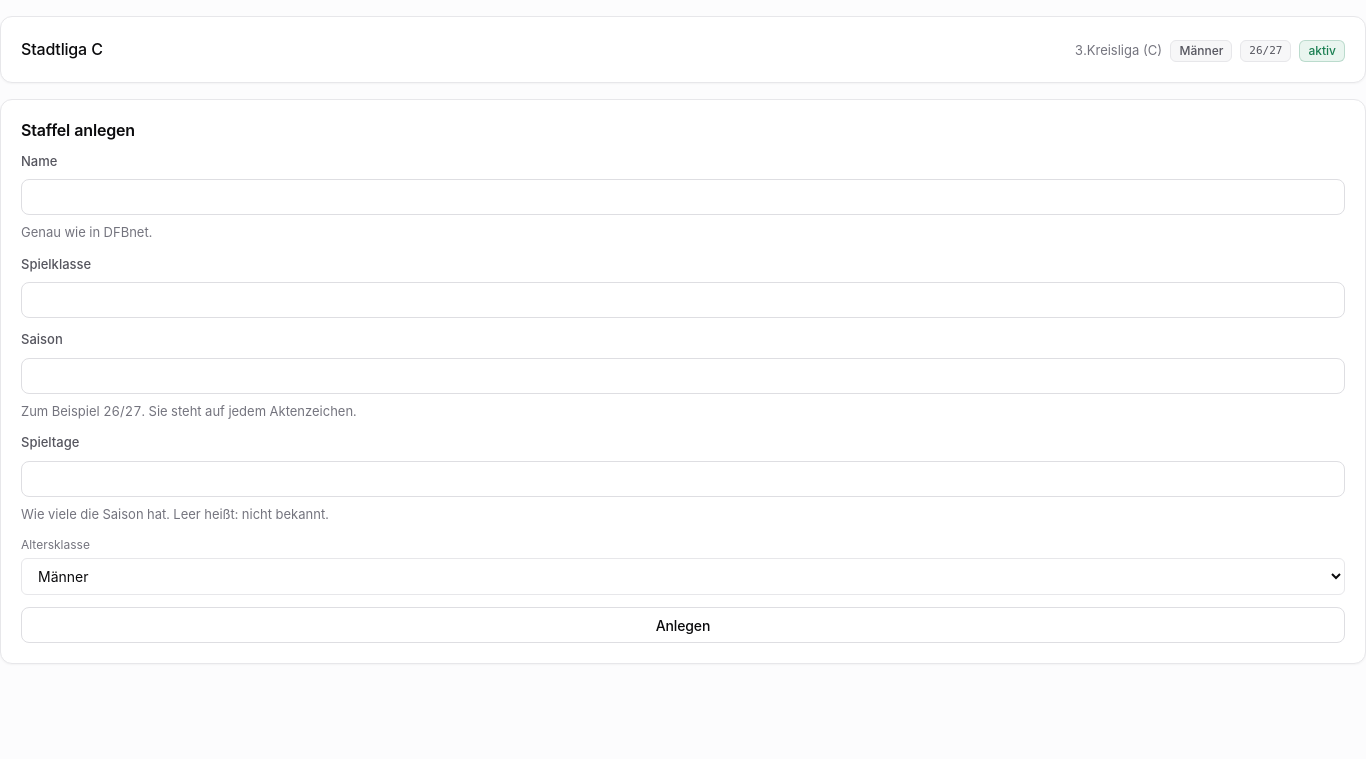
Test: Die Bereiche › führen zu den Staffeln, und die Mannschaften stehen dort
The width and height of the screenshot is (1366, 759).
Click the button "Stadtliga C 3.Kreisliga (C) Männer 26/27 aktiv": [62, 49] box [21,37,1345,62]
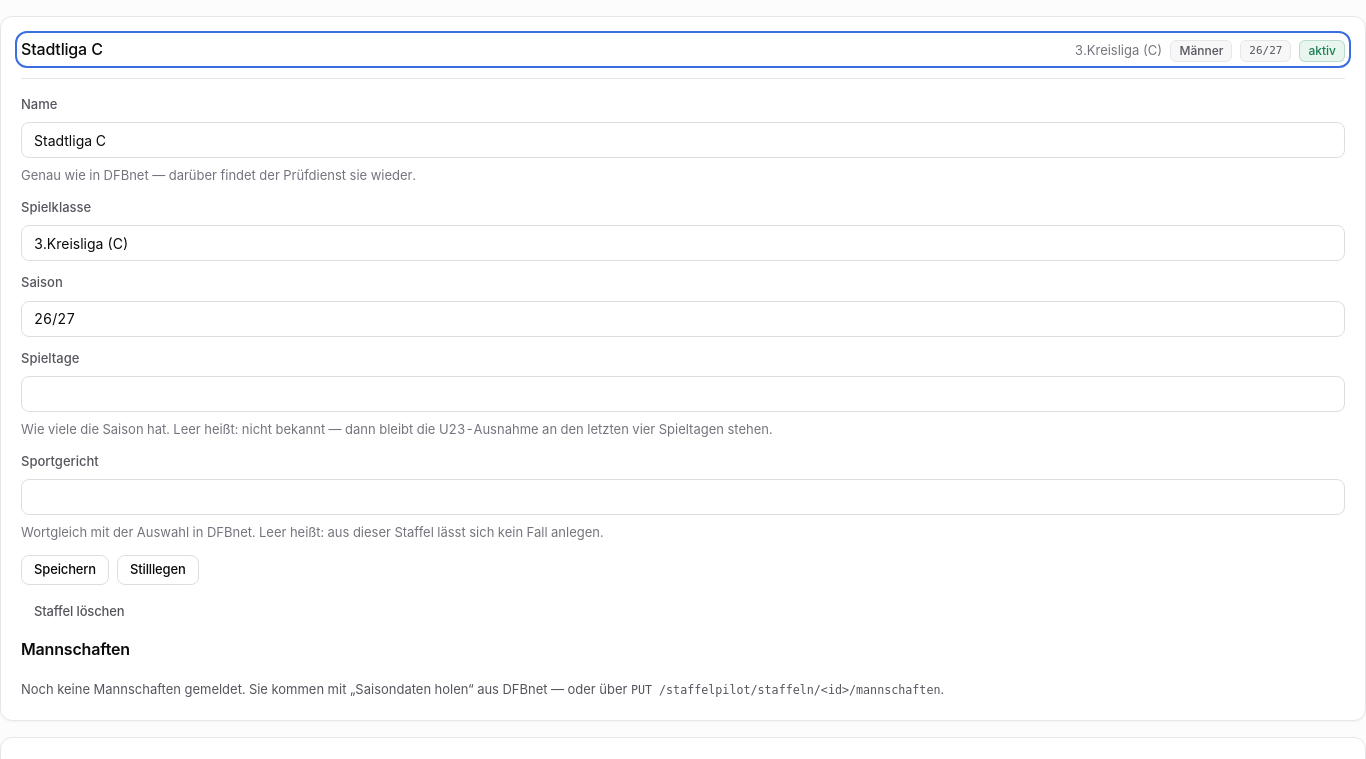
Check: the heading "Mannschaften" is shown, box [21,639,130,659]
